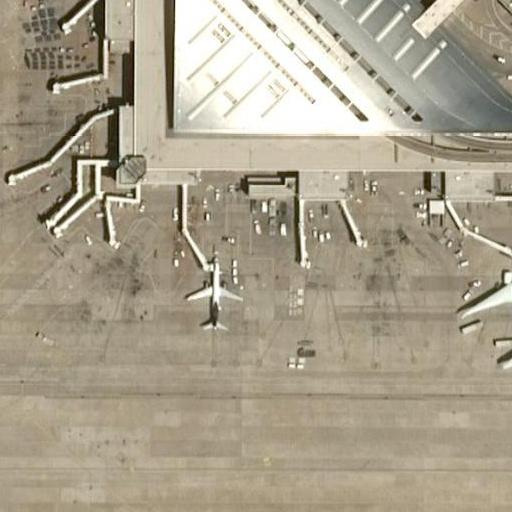Aircraft: (450, 220, 512, 368), (181, 260, 235, 329)
